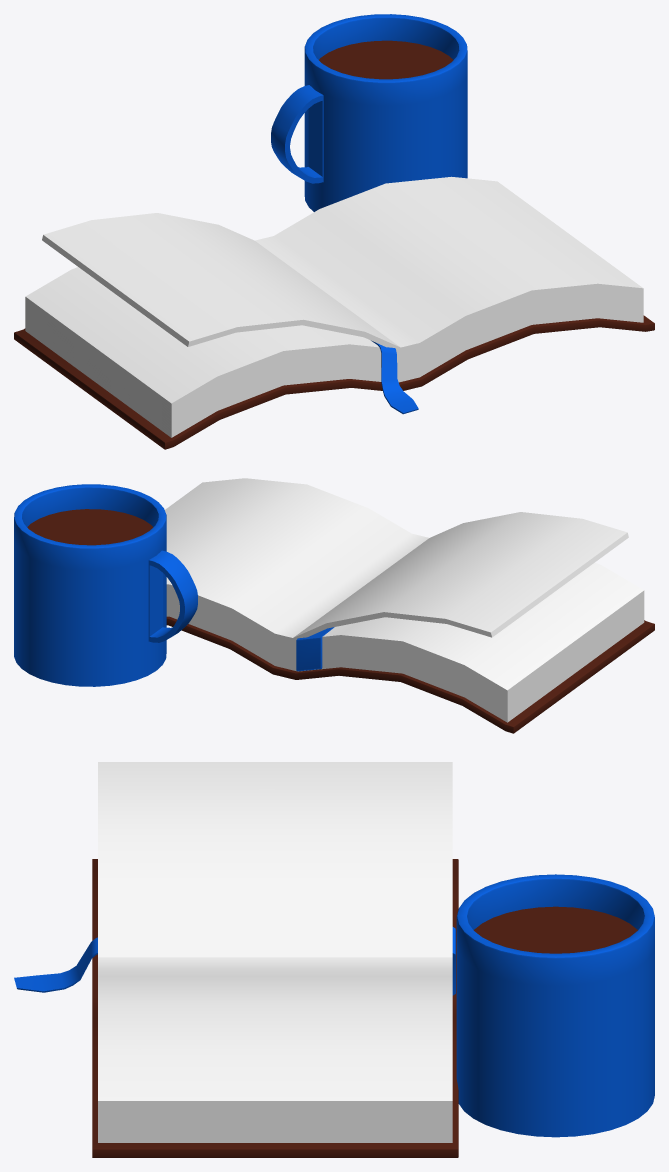
The model's file is Book-model.glb.
3 renders of one model, top to bottom at view 1: azimuth 30°, elevation 25°; view 2: azimuth 150°, elevation 25°; view 3: azimuth 270°, elevation 25°, orthographic. The views are drawn at different scales.
Parts seen in each view (by area): view 1: Kniha, Tea, Page, Obal, Zalozka; view 2: Kniha, Tea, Page, Obal, Zalozka; view 3: Page, Kniha, Tea, Obal, Zalozka.
Part boxes in pixels (box(x1,y1,x2,y2)): Kniha: box(25, 176, 643, 437); Tea: box(271, 14, 467, 211); Page: box(42, 213, 404, 354); Obal: box(14, 315, 654, 449); Zalozka: box(371, 340, 418, 414); Kniha: box(165, 478, 644, 722); Tea: box(14, 484, 197, 686); Page: box(293, 512, 628, 638); Obal: box(166, 616, 654, 733); Zalozka: box(296, 627, 334, 671); Page: box(98, 762, 452, 957); Kniha: box(98, 957, 452, 1142); Tea: box(456, 874, 654, 1137); Obal: box(92, 859, 458, 1157); Zalozka: box(14, 927, 455, 995).
Bounding box in the file's own units: 6.21 × 1.96 × 5.79.
